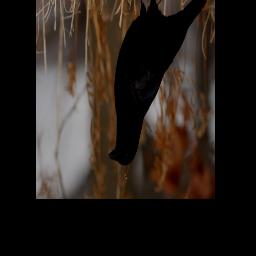Crow: (106, 0, 211, 170)
